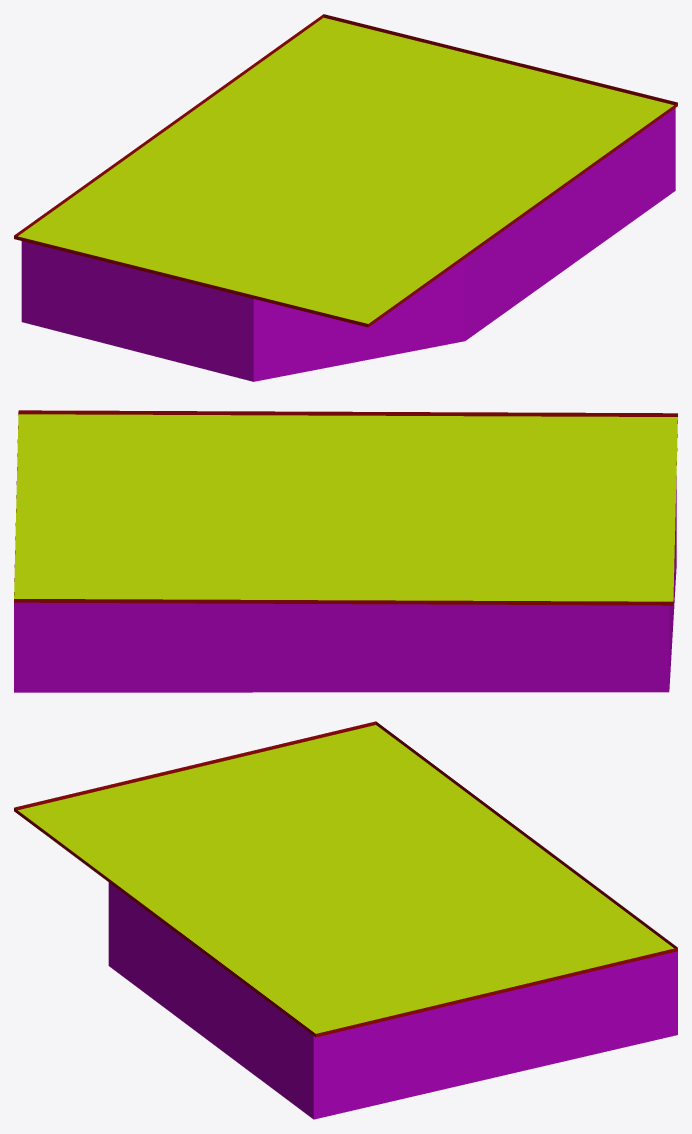
File: bgj_66.glb
3 views of the same model, one above another, from view 1: azimuth 30°, elevation 25°; view 2: azimuth 150°, elevation 25°; view 3: azimuth 270°, elevation 25° (orthographic). The views are drawn at different scales.
Parts seen in each view (by area): view 1: bgj_66; view 2: bgj_66; view 3: bgj_66.
Boxes of the visible parts, bbox=[...] form: bgj_66: bbox=[14, 14, 677, 381]; bgj_66: bbox=[14, 410, 677, 692]; bgj_66: bbox=[14, 721, 677, 1119].
Size of the model in its own units: 65.26 by 8.51 by 58.59.
